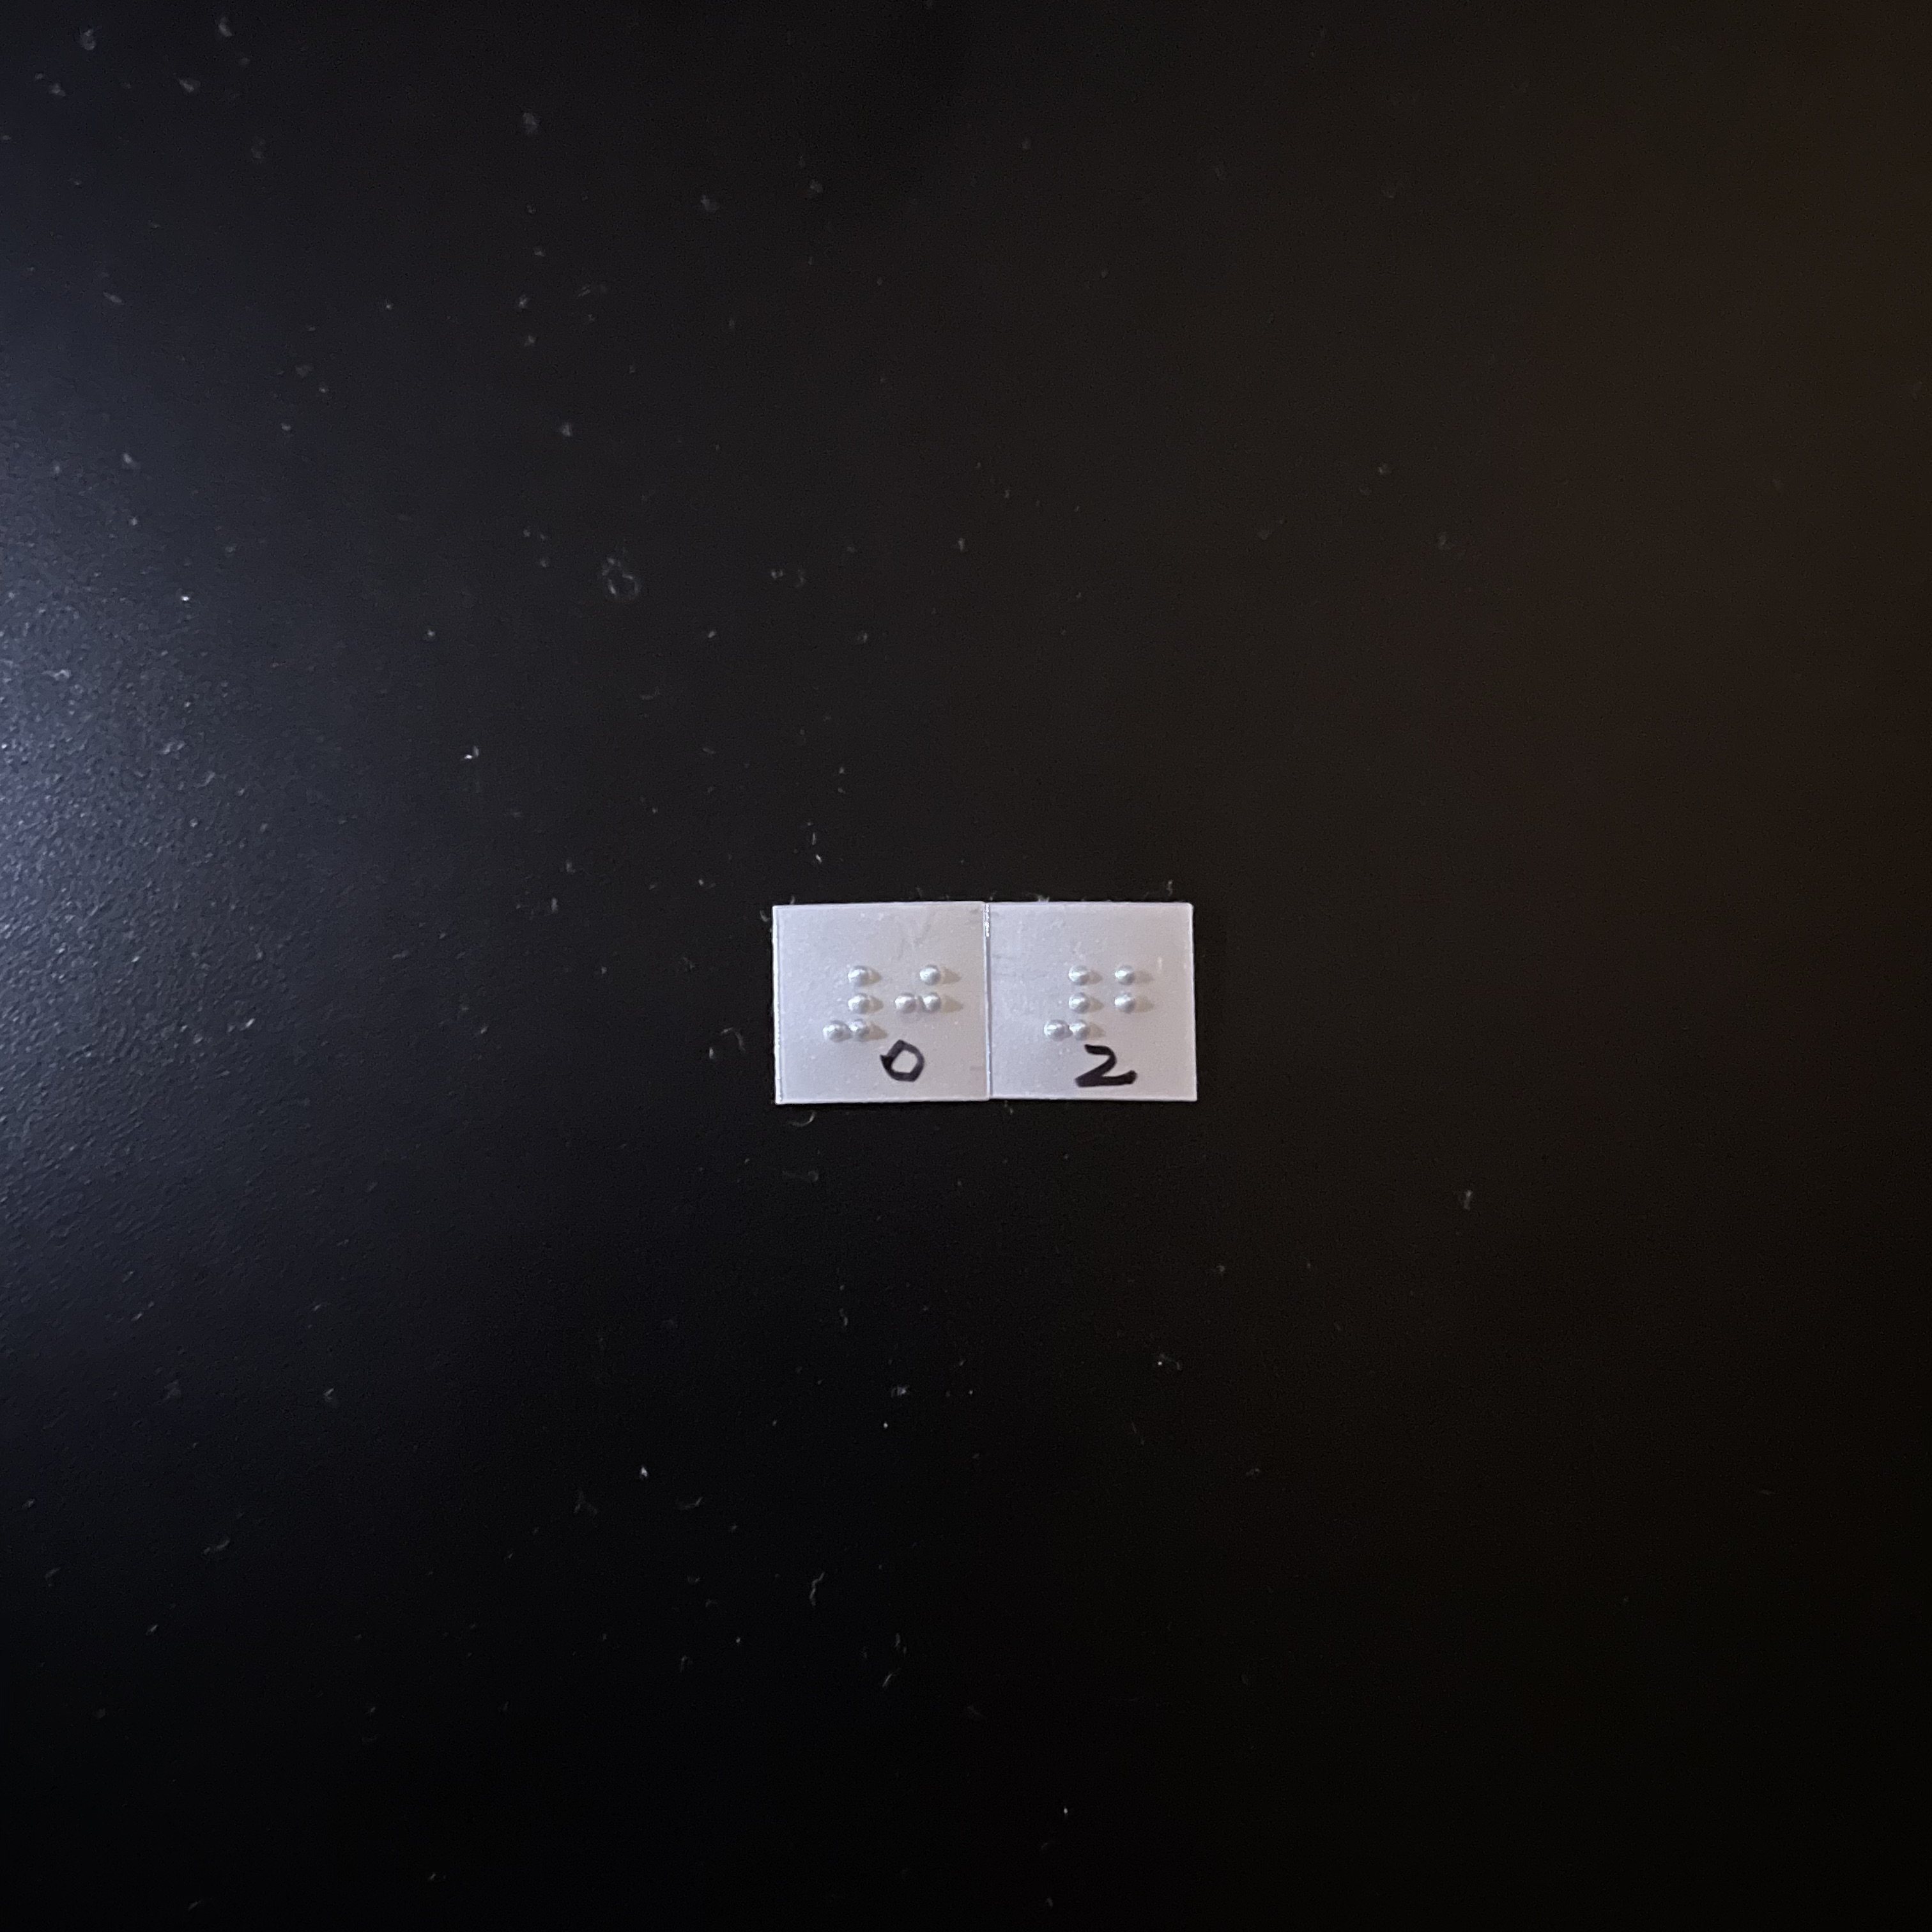#: (816, 949, 880, 1048), (1034, 956, 1095, 1048)
b: (1104, 954, 1168, 1048)
j: (880, 951, 947, 1051)
